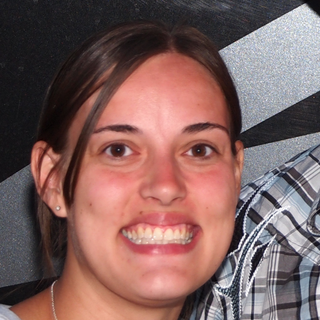eye: (174, 133, 226, 173), (91, 136, 145, 167)
